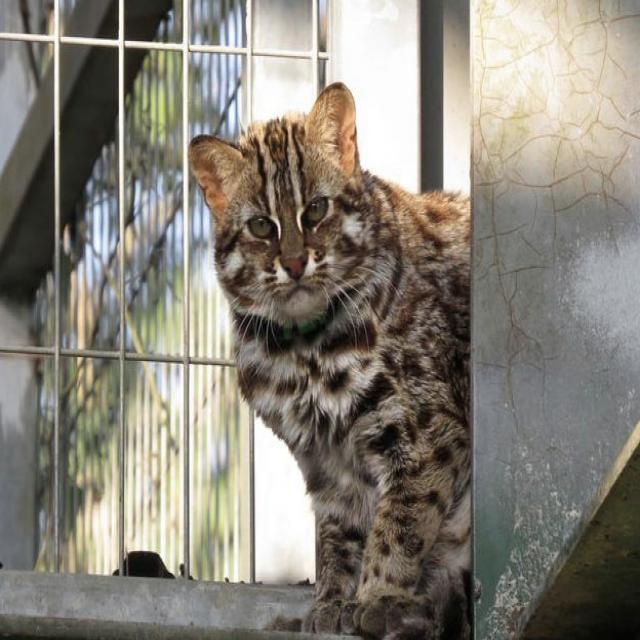leopard: (187, 104, 526, 566)
